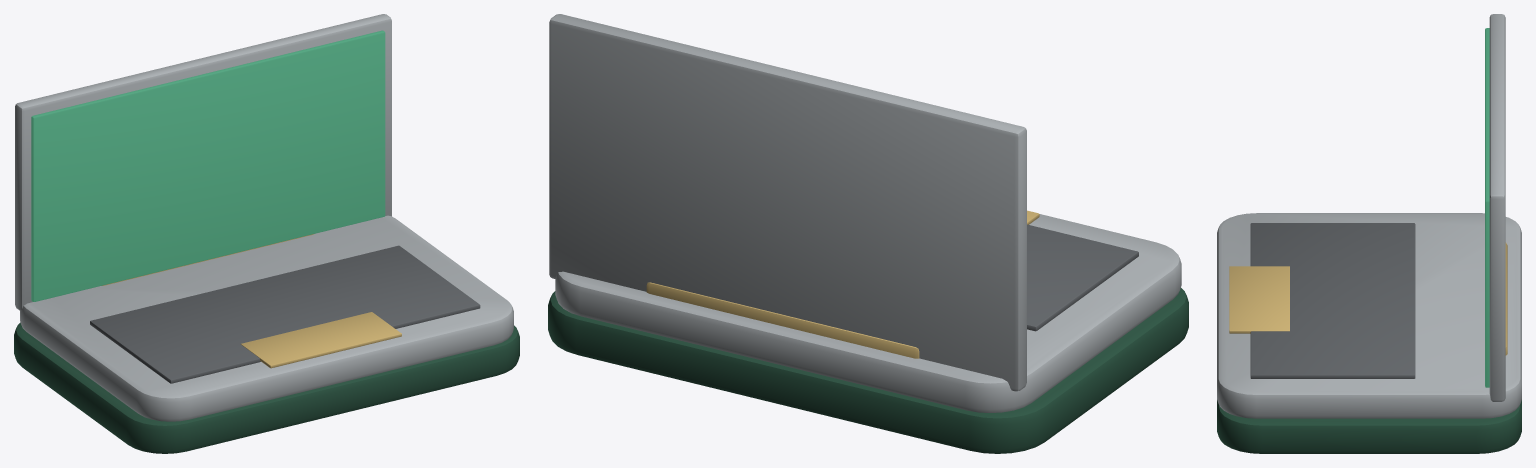
The model's file is laptop_country_club.glb.
The picture shows the model from 3 angles, left to right: view 1: azimuth 30°, elevation 25°; view 2: azimuth 150°, elevation 25°; view 3: azimuth 270°, elevation 25°; orthographic projection. The views are drawn at different scales.
Visible parts, largest first — view 1: Laptop_Screen, Laptop_Base, Laptop_Keyboard, Laptop_LeatherSleeve, Laptop_ScreenBack, Laptop_Trackpad; view 2: Laptop_ScreenBack, Laptop_Base, Laptop_LeatherSleeve, Laptop_Keyboard, Laptop_BrassHinge; view 3: Laptop_Base, Laptop_Keyboard, Laptop_LeatherSleeve, Laptop_ScreenBack, Laptop_Trackpad, Laptop_Screen, Laptop_BrassHinge.
Boxes of the visible parts, bbox=[...] form: Laptop_Screen: bbox=[31, 30, 385, 301]; Laptop_Base: bbox=[20, 215, 513, 421]; Laptop_Keyboard: bbox=[90, 245, 480, 383]; Laptop_LeatherSleeve: bbox=[14, 322, 519, 453]; Laptop_ScreenBack: bbox=[15, 14, 391, 311]; Laptop_Trackpad: bbox=[241, 312, 401, 368]; Laptop_ScreenBack: bbox=[549, 14, 1026, 391]; Laptop_Base: bbox=[555, 214, 1181, 412]; Laptop_LeatherSleeve: bbox=[548, 288, 1188, 453]; Laptop_Keyboard: bbox=[1027, 224, 1138, 331]; Laptop_BrassHinge: bbox=[646, 282, 919, 358]; Laptop_Base: bbox=[1217, 213, 1521, 418]; Laptop_Keyboard: bbox=[1250, 223, 1415, 378]; Laptop_LeatherSleeve: bbox=[1217, 400, 1521, 453]; Laptop_ScreenBack: bbox=[1489, 14, 1505, 401]; Laptop_Trackpad: bbox=[1229, 266, 1289, 333]; Laptop_Screen: bbox=[1485, 28, 1489, 387]; Laptop_BrassHinge: bbox=[1505, 242, 1507, 355].
Size of what is drawn, in the model's own units: 0.4 by 0.2511 by 0.27.
